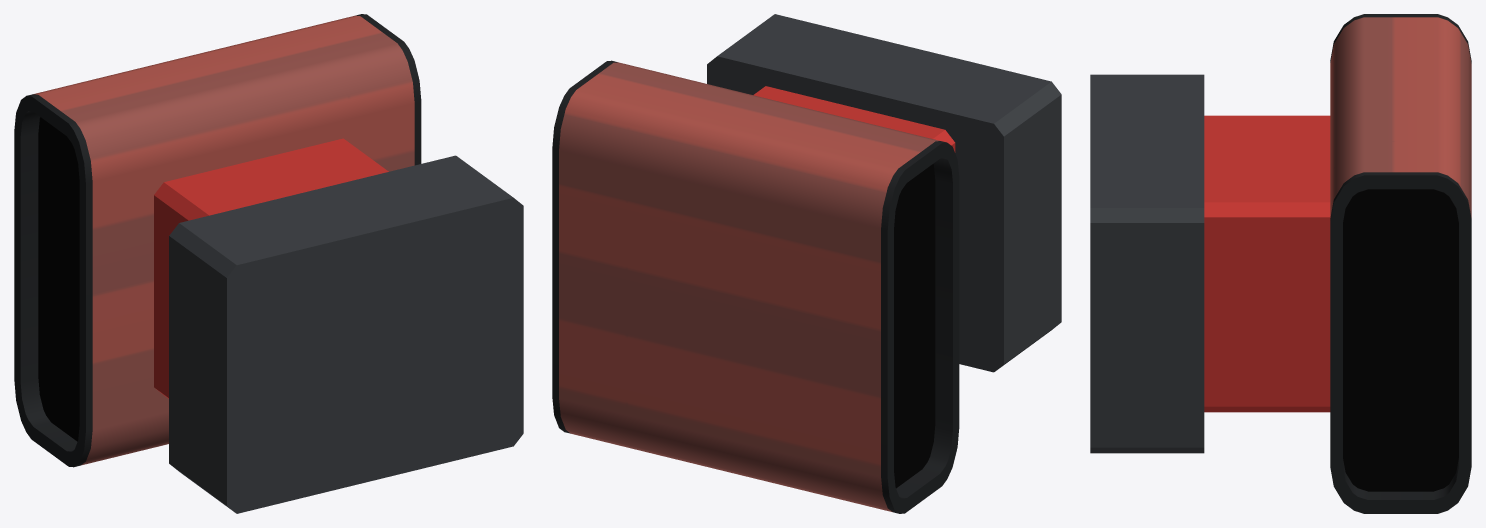
File: SandPaper_03.fbx
3 renders of one model, left to right at view 1: azimuth 30°, elevation 25°; view 2: azimuth 150°, elevation 25°; view 3: azimuth 270°, elevation 25°, orthographic.
Parts seen in each view (by area): view 1: SandPaper_03; view 2: SandPaper_03; view 3: SandPaper_03.
Part boxes in pixels (left/top/right/bottom): SandPaper_03: left=14, top=14, right=523, bottom=513; SandPaper_03: left=552, top=14, right=1061, bottom=513; SandPaper_03: left=1090, top=14, right=1471, bottom=513.
Size of the model in its own units: 200 by 196 by 200.
